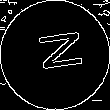N_W: (27, 32, 83, 78)
